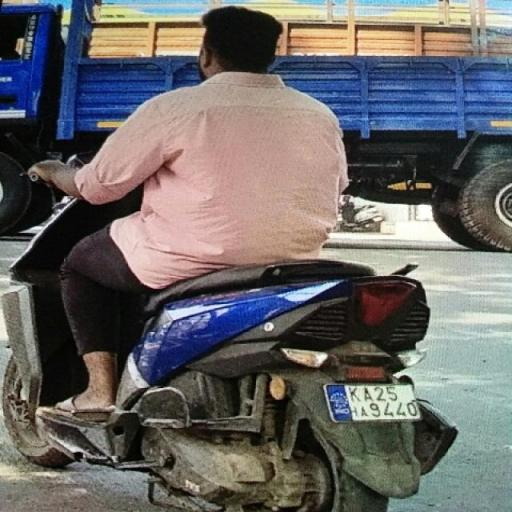bike: (3, 3, 464, 512)
numberplate: (330, 384, 422, 424)
withouthelmet: (202, 7, 277, 71)
